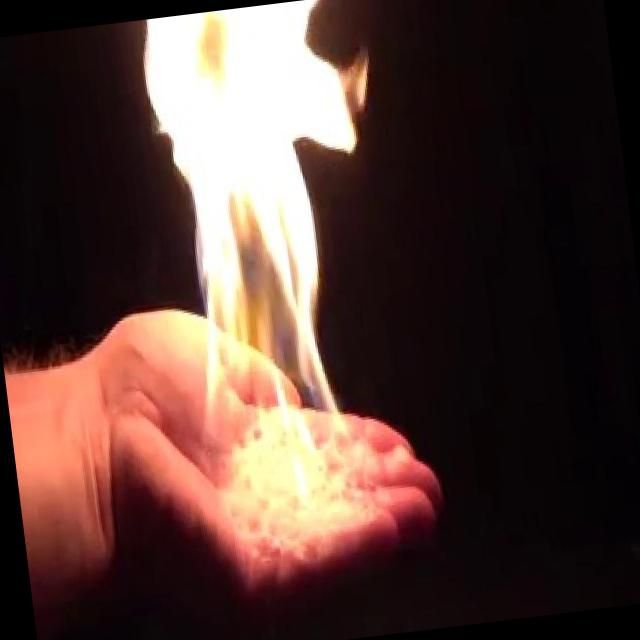Fire: (131, 0, 419, 518)
